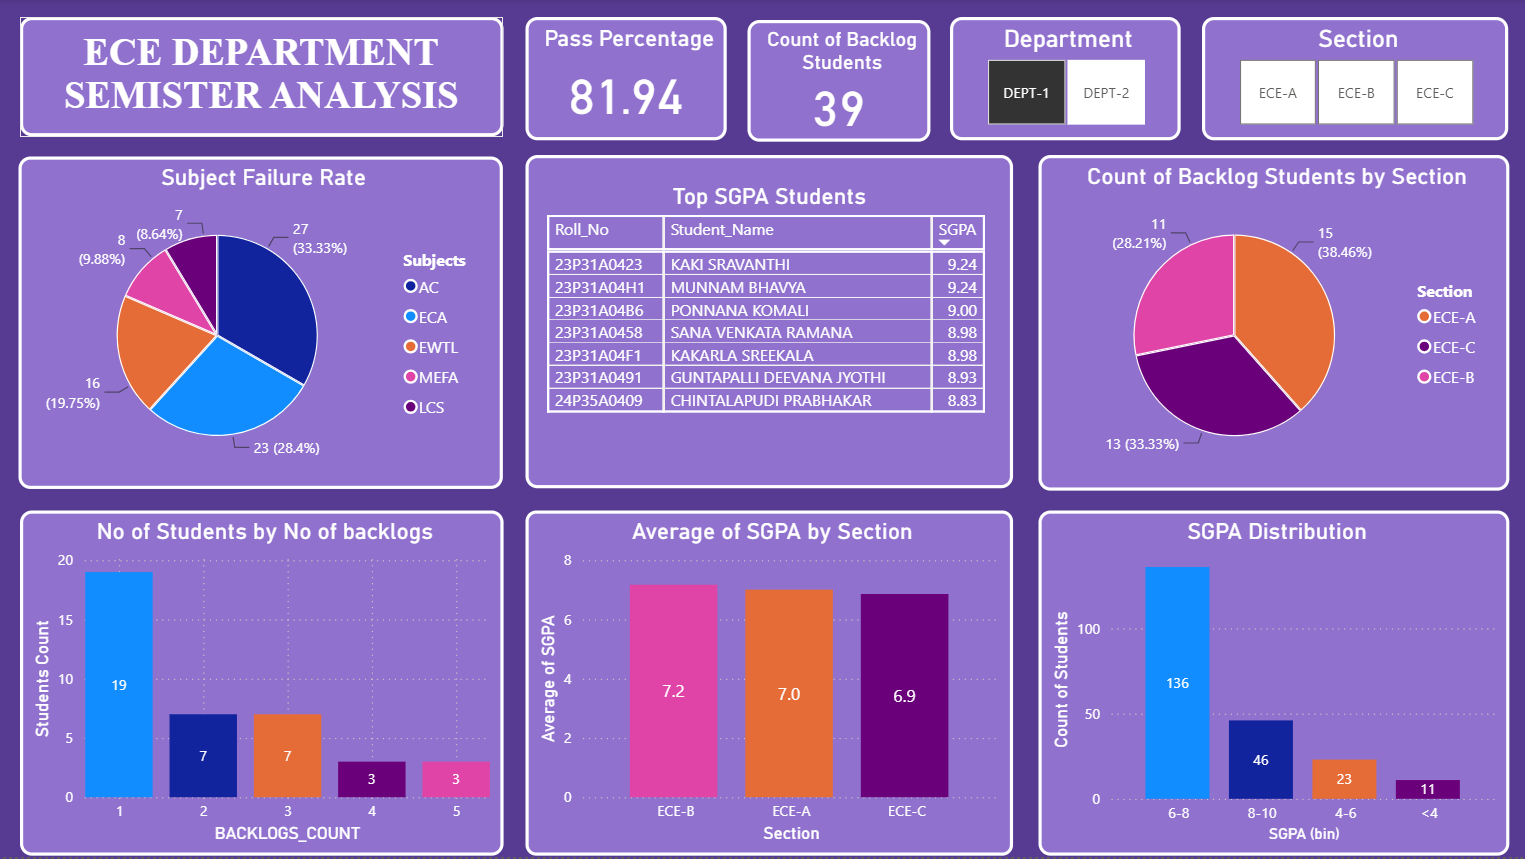

What the dashboard file says about the page in this screenshot:
{"tool":"powerbi","page":{"name":"Page 1","canvas":[1280,720],"ordinal":0},"visuals":[{"type":"pieChart","title":"Subject Failure Rate","fields":{"Category":["SEM_ANALYSIS123.Subjects"],"Y":["Divide(CountNonNull(SEM_ANALYSIS123.Pass_or_fail), ScopedEval(CountNonNull(SEM_ANALYSIS123.Pass_or_fail), []))"],"Series":["SEM_ANALYSIS123.Pass_or_fail"]},"box":[16.7,131.7,405.8,278.6],"z":0},{"type":"columnChart","title":"Average of SGPA by Section","fields":{"Category":["SEM_ANALYSIS123 (2).Section"],"Y":["Avg(SEM_ANALYSIS123 (2).SGPA)"],"Series":["SEM_ANALYSIS123 (2).Section"]},"box":[441.4,429.3,408.6,289.7],"z":1000},{"type":"slicer","title":"Department","fields":{"Values":["SEM_ANALYSIS123 (2).Department"]},"box":[796.6,15.5,193.1,103.4],"z":2000},{"type":"slicer","title":"Section","fields":{"Values":["SEM_ANALYSIS123 (2).Section"]},"box":[1008.6,15.5,256.9,103.4],"z":3000},{"type":"pieChart","title":"Count of Backlog Students by Section","fields":{"Y":["CountNonNull(SEM_ANALYSIS123 (2).BACKLOGS_OR_NOT)"],"Category":["SEM_ANALYSIS123 (2).Section"]},"box":[870.7,131,394.8,281],"z":4000},{"type":"columnChart","title":"SGPA Distribution","fields":{"Category":["SEM_ANALYSIS123 (2).SGPA_Bin"],"Y":["CountNonNull(SEM_ANALYSIS123 (2).SGPA)"],"Series":["SEM_ANALYSIS123 (2).SGPA_Bin"]},"box":[870.7,429.3,394.8,289.7],"z":5000},{"type":"columnChart","title":"No of Students by No of backlogs ","fields":{"Category":["SEM_ANALYSIS123 (2).BACKLOGS_COUNT"],"Y":["CountNonNull(SEM_ANALYSIS123 (2).SGPA)"],"Series":["SEM_ANALYSIS123 (2).BACKLOGS_COUNT"]},"box":[17.2,429.3,405.2,289.7],"z":6000},{"type":"tableEx","title":"Top SGPA Students","fields":{"Values":["SEM_ANALYSIS123 (2).Roll_No","SEM_ANALYSIS123 (2).Student_Name","SEM_ANALYSIS123 (2).SGPA"]},"box":[441.4,131,408.6,279.3],"z":7000},{"type":"card","title":"Count of Backlog Students","fields":{"Values":["CountNonNull(SEM_ANALYSIS123 (2).BACKLOGS_OR_NOT)"]},"box":[627.6,17.2,153.4,101.7],"z":8000},{"type":"card","title":"Pass Percentage","fields":{"Values":["SEM_ANALYSIS123 (2).Pass Percentage"]},"box":[441.4,15.5,169,103.4],"z":9000},{"type":"textbox","box":[17.2,15.5,405.2,100],"z":10000}]}

Visuals, with their boxes in screenshot pixels (x1, y1, x2, y2), scaled from the page's 1280x720 canvas onto the 1525x859 screenshot:
"Subject Failure Rate" pieChart: (20, 157, 503, 490)
"Average of SGPA by Section" columnChart: (526, 512, 1013, 858)
"Department" slicer: (949, 18, 1179, 142)
"Section" slicer: (1202, 18, 1508, 142)
"Count of Backlog Students by Section" pieChart: (1037, 156, 1508, 492)
"SGPA Distribution" columnChart: (1037, 512, 1508, 858)
"No of Students by No of backlogs " columnChart: (20, 512, 503, 858)
"Top SGPA Students" tableEx: (526, 156, 1013, 490)
"Count of Backlog Students" card: (748, 21, 930, 142)
"Pass Percentage" card: (526, 18, 727, 142)
textbox: (20, 18, 503, 138)
